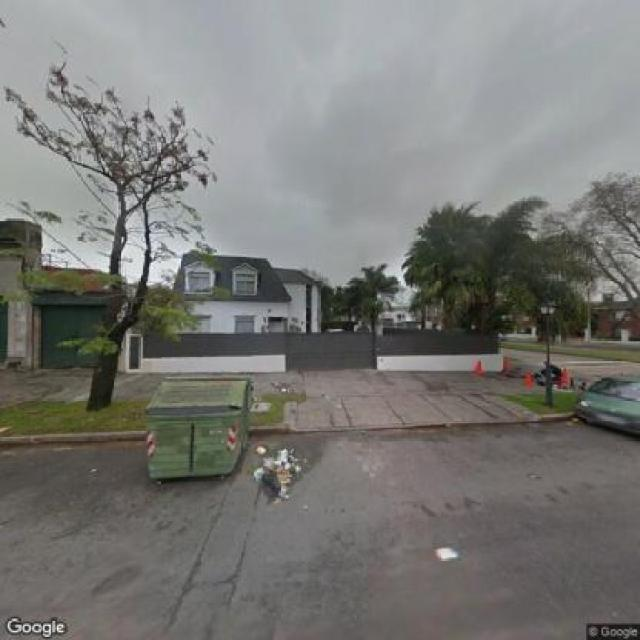garbage: (248, 437, 312, 504)
